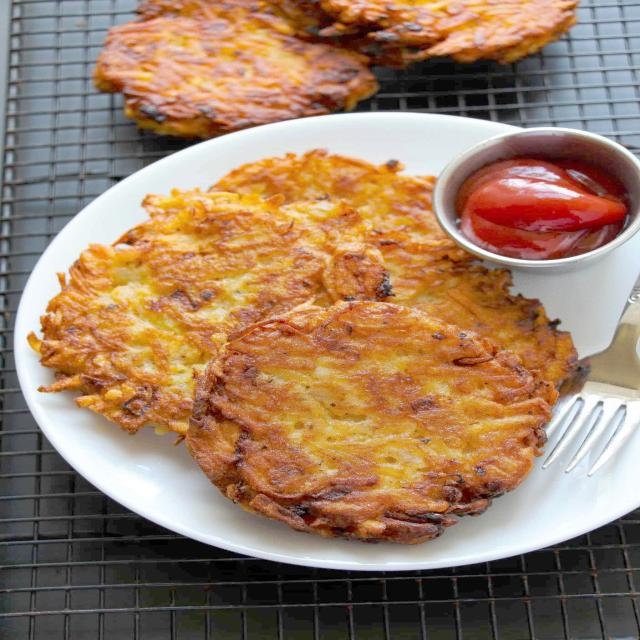Hashbrown: (44, 151, 586, 435), (192, 302, 544, 540), (97, 0, 373, 133), (310, 0, 582, 58)
ketchup: (466, 155, 620, 251)
